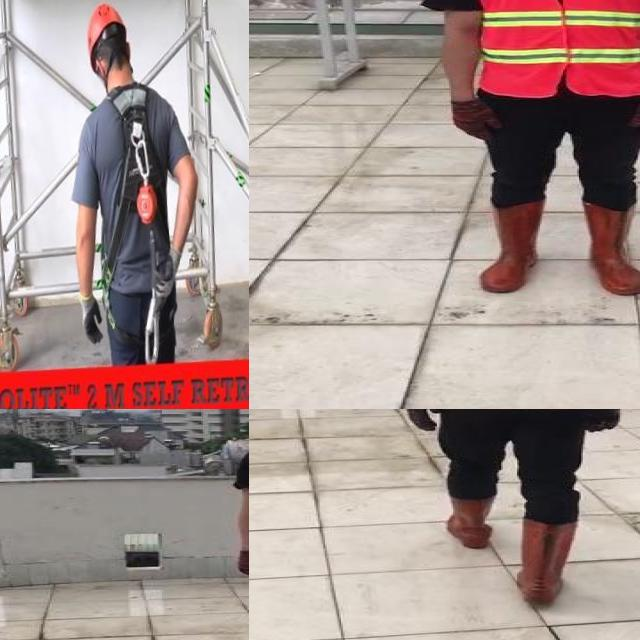Harness: (101, 83, 182, 308)
boots: (577, 201, 640, 297), (478, 199, 542, 292), (515, 514, 579, 602), (444, 489, 494, 547)
hand_glove: (446, 99, 504, 140), (584, 409, 618, 435), (403, 409, 437, 432), (236, 551, 249, 578)
person: (412, 0, 640, 299), (397, 409, 640, 618)
vest: (468, 0, 640, 96)
